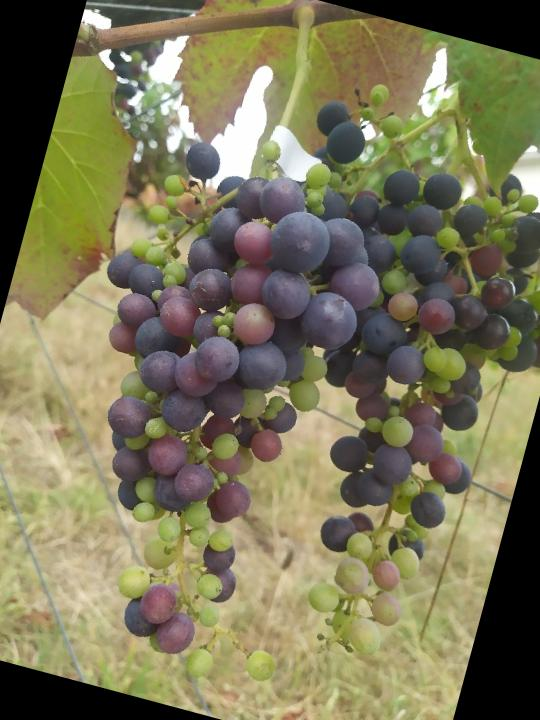grape: (5, 108, 410, 702), (180, 70, 540, 695)
